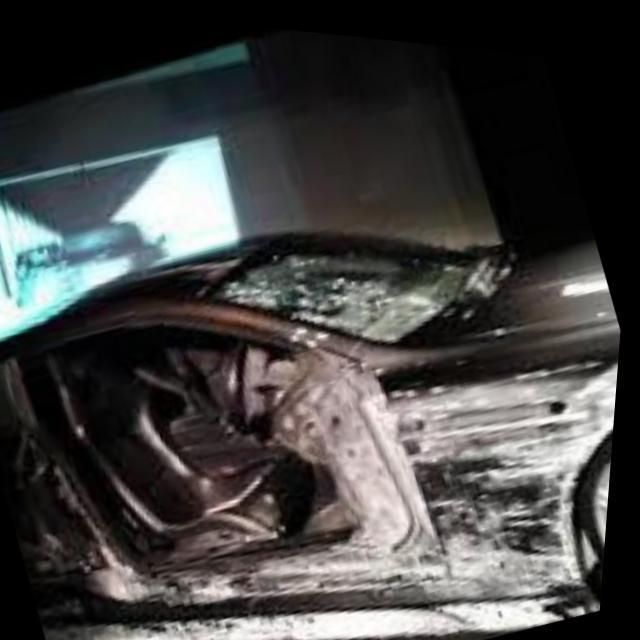crash: (0, 271, 623, 640)
